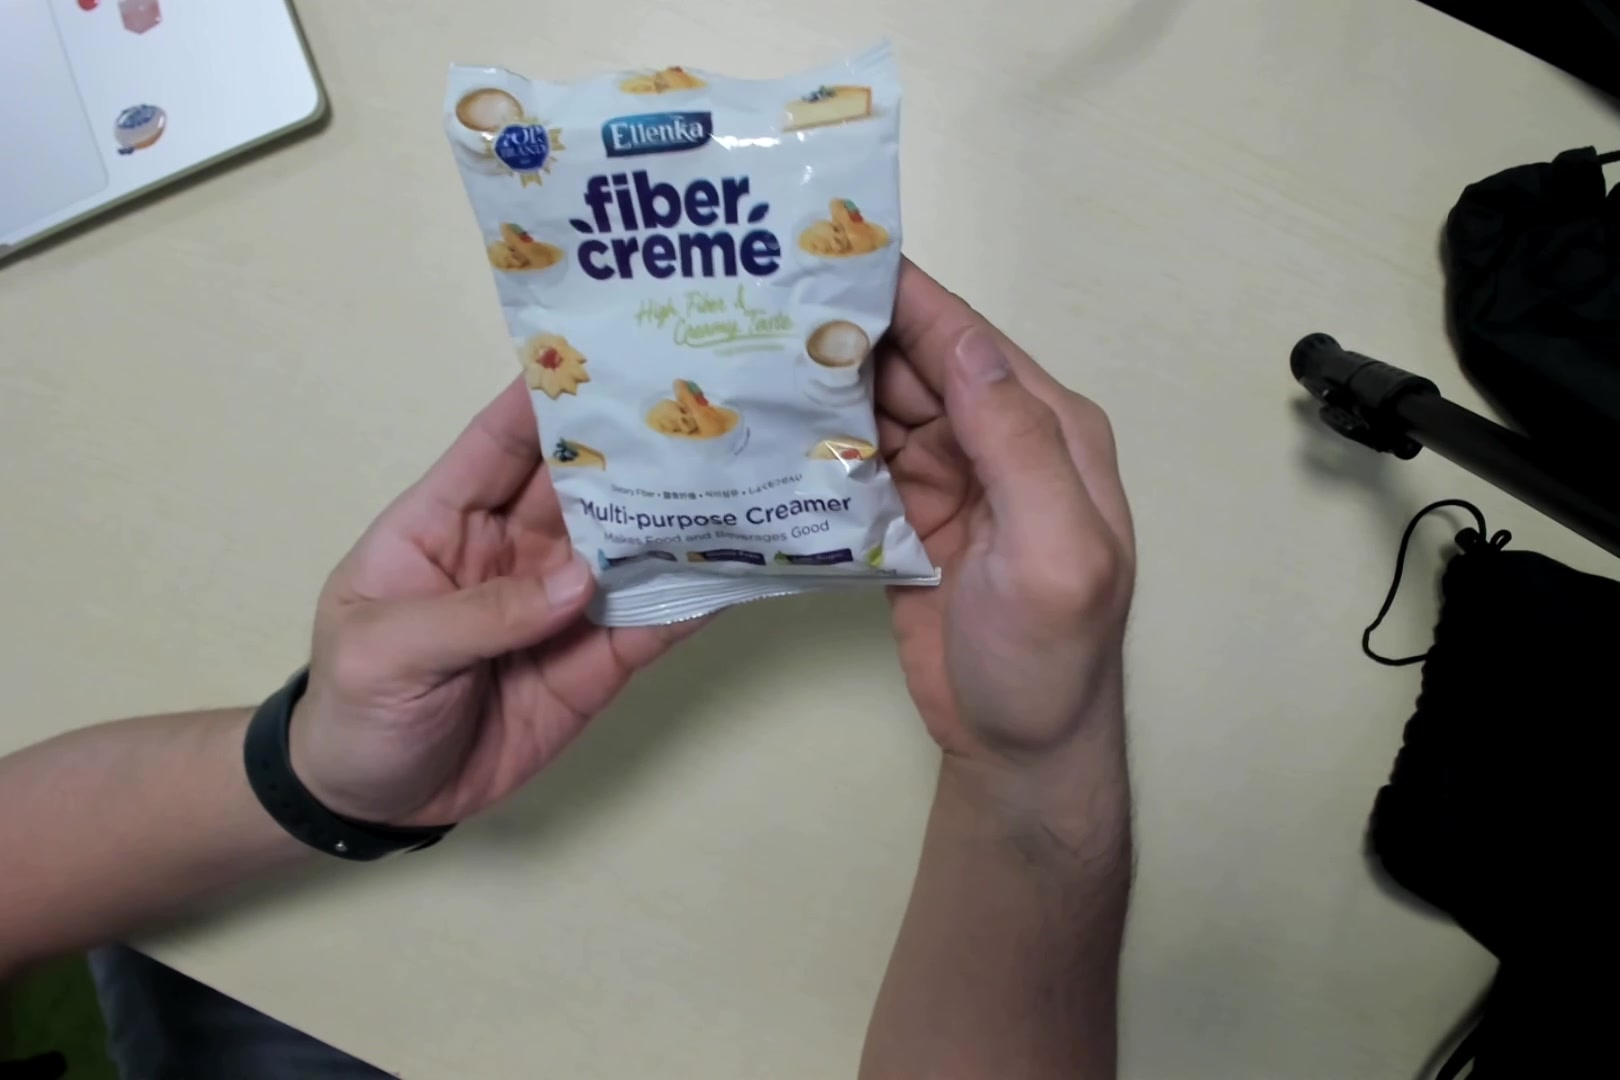OtherBakingNeeds_100-199g_Halal_NonHealthy: (452, 65, 939, 624)
